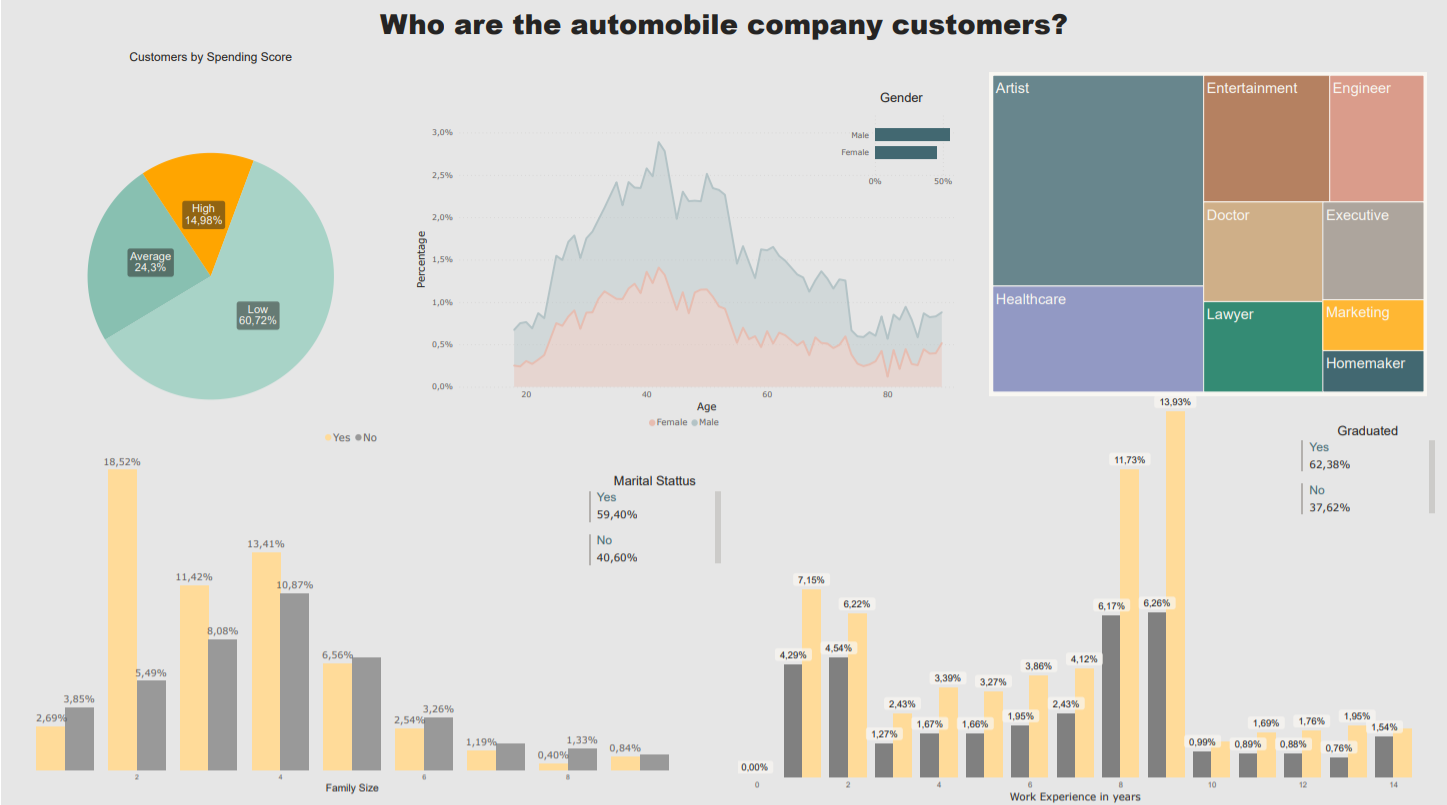

This screenshot's page, from the dashboard's own definition file:
{"tool":"powerbi","page":{"name":"Page 1","canvas":[2250,1250],"ordinal":0},"visuals":[{"type":"stackedAreaChart","title":"Customers by Age and Gender","fields":{"Category":["customer_data (2).Age"],"Y":["Sum(customer_data (2).Age)"],"Series":["customer_data (2).Gender"]},"box":[640.3,190.7,847,483.7],"z":0},{"type":"clusteredBarChart","title":"Gender","fields":{"Y":["Divide(CountNonNull(customer_data (2).Gender), ScopedEval(CountNonNull(customer_data (2).Gender), []))"],"Category":["customer_data (2).Gender"]},"box":[1296.6,138.5,210.7,158.6],"z":1000},{"type":"pieChart","title":"Customers by Spending Score","fields":{"Y":["CountNonNull(customer_data (2).Spending_Score)"],"Series":["customer_data (2).Spending_Score"]},"box":[14,76.3,626.2,682.4],"z":2000},{"type":"clusteredColumnChart","title":"Customers by Family Size and Marital Status","fields":{"Y":["Sum(customer_data (2).Family_Size)"],"Category":["customer_data (2).Family_Size"],"Series":["customer_data (2).Ever_Married"]},"box":[49.6,656.5,994.3,580.2],"z":3000},{"type":"multiRowCard","title":"Graduated","fields":{"Values":["CountNonNull(customer_data (2).Graduated)","customer_data (2).Graduated"]},"box":[2019.1,656.5,215.6,156.5],"z":4000},{"type":"treemap","title":"Percentage of customers by profession","fields":{"Group":["customer_data (2).Profession"],"Values":["Divide(CountNonNull(customer_data (2).Profession), ScopedEval(CountNonNull(customer_data (2).Profession), []))"]},"box":[1538.2,110.7,681.3,501.9],"z":5000},{"type":"lineClusteredColumnComboChart","fields":{"Category":["customer_data (2).Work_Experience"],"Series":["customer_data (2).Graduated"],"Y":["Divide(Sum(customer_data (2).Work_Experience), ScopedEval(Sum(customer_data (2).Work_Experience), []))"]},"box":[1143.1,597.3,1057.3,652.7],"z":6000},{"type":"textbox","box":[0,0,2250,110.4],"z":7000},{"type":"multiRowCard","title":"Marital Stattus","fields":{"Values":["customer_data (2).Ever_Married","customer_data (2).Ever_Married1"]},"box":[910.2,734.3,214.8,155.5],"z":8000}]}

Visuals, with their boxes in screenshot pixels (x1, y1, x2, y2), scaled from the page's 2250x1250 canvas onto the 1447x805 screenshot:
"Customers by Age and Gender" stackedAreaChart: 412,123,956,434
"Gender" clusteredBarChart: 834,89,969,191
"Customers by Spending Score" pieChart: 9,49,412,489
"Customers by Family Size and Marital Status" clusteredColumnChart: 32,423,671,796
"Graduated" multiRowCard: 1299,423,1437,524
"Percentage of customers by profession" treemap: 989,71,1427,395
lineClusteredColumnComboChart - customer_data (2).Work_Experience x customer_data (2).Graduated: 735,385,1415,804
textbox: 0,0,1446,71
"Marital Stattus" multiRowCard: 585,473,724,573
